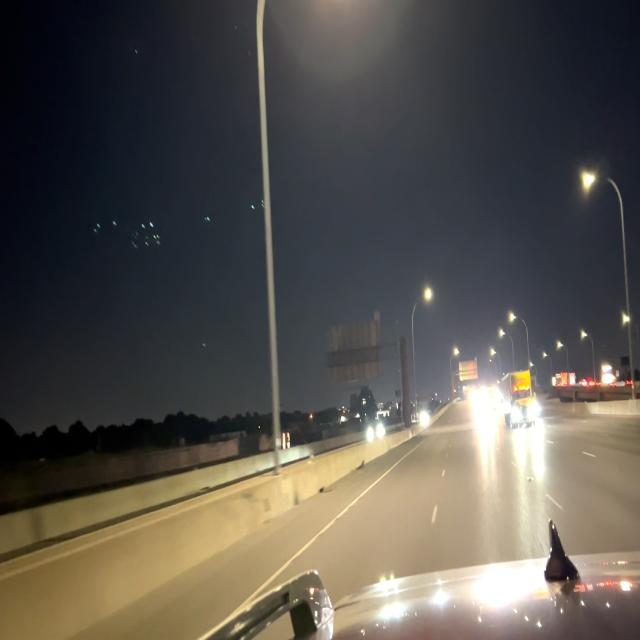back-of-sign: (326, 310, 383, 381), (458, 355, 479, 385)
